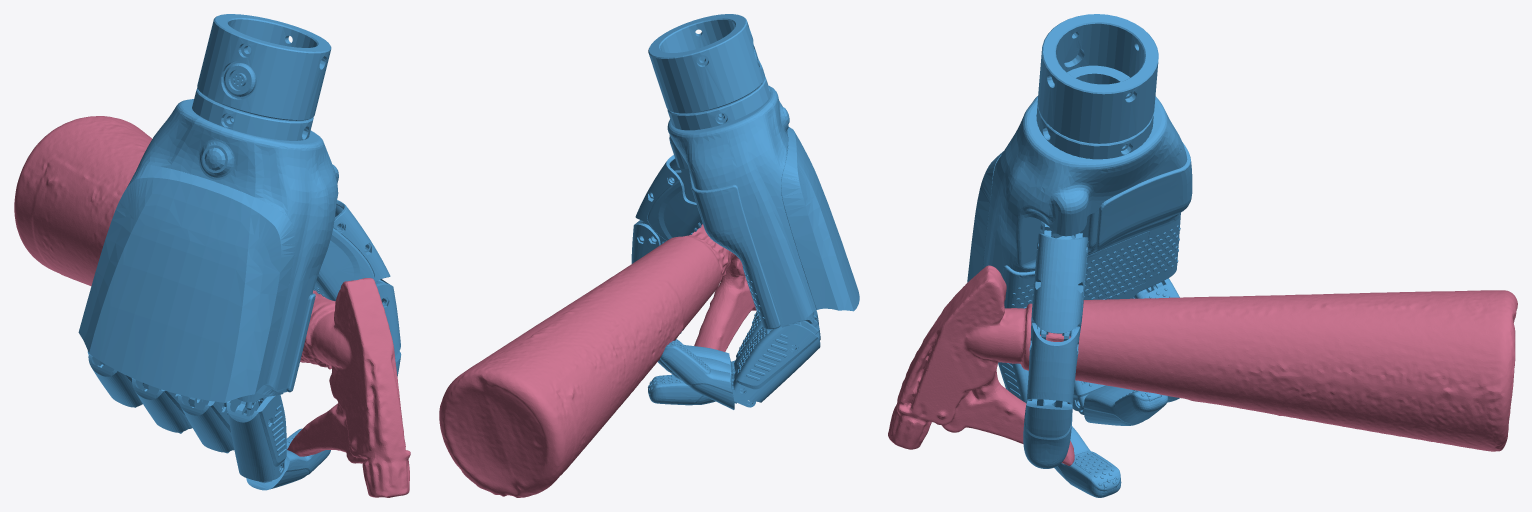
The picture shows the model from 3 angles, left to right: view 1: azimuth 30°, elevation 25°; view 2: azimuth 150°, elevation 25°; view 3: azimuth 270°, elevation 25°; orthographic projection. The views are drawn at different scales.
Visible parts, largest first — view 1: 3; view 2: 3; view 3: 3.
Part boxes in pixels (x1,y1,x2,y2): 3: (14, 14, 410, 497); 3: (439, 14, 859, 497); 3: (888, 14, 1517, 497).
Size of the model in its own units: 0.1337 by 0.2074 by 0.2685.
